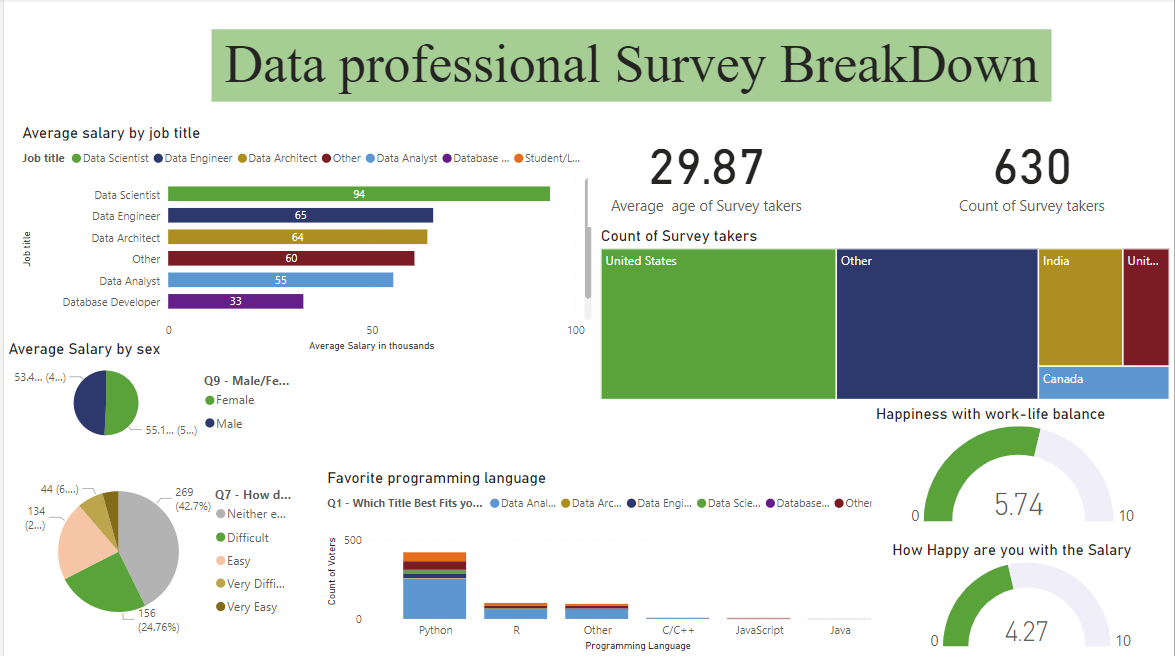

The dashboard page shown, as its layout file describes it:
{"tool":"powerbi","page":{"name":"Page 1","canvas":[1280,720],"ordinal":0},"visuals":[{"type":"card","fields":{"Values":["CountNonNull(Data Professional Survey.Unique ID)"]},"box":[990.3,136.8,269.5,104],"z":0},{"type":"barChart","title":"Average salary by job title","fields":{"Category":["Data Professional Survey.Q1 - Which Title Best Fits your Current Role?.1"],"Y":["Avg(Data Professional Survey.Average Salary.1)"],"Series":["Data Professional Survey.Q1 - Which Title Best Fits your Current Role?.1"]},"box":[15,136.8,633.3,254.4],"z":1000},{"type":"pieChart","title":"Difficulty to break into data","fields":{"Category":["Data Professional Survey.Q7 - How difficult was it for you to break into Data?"],"Y":["CountNonNull(Data Professional Survey.Q1 - Which Title Best Fits your Current Role?.1)"]},"box":[15,493.8,418.6,227.1],"z":2000},{"type":"columnChart","title":"Favorite programming language","fields":{"Category":["Data Professional Survey.Q5 - Favorite Programming Language.1"],"Y":["Count(Data Professional Survey.Unique ID)"],"Series":["Data Professional Survey.Q1 - Which Title Best Fits your Current Role?.1"]},"box":[433.6,444.5,558.1,274.9],"z":3000},{"type":"treemap","title":"Count of Survey takers","fields":{"Group":["Data Professional Survey.Q11 - Which Country do you live in?.1"],"Values":["CountNonNull(Data Professional Survey.Q11 - Which Country do you live in?.1)"]},"box":[648.3,250.3,631.9,194.2],"z":4000},{"type":"gauge","title":"Happiness with work-life balance","fields":{"Y":["Avg(Data Professional Survey.Q6 - How Happy are you in your Current Position with the following? (Work/Life Balance))"],"MinValue":["Min(Data Professional Survey.Q6 - How Happy are you in your Current Position with the following? (Work/Life Balance))"],"MaxValue":["Max(Data Professional Survey.Q6 - How Happy are you in your Current Position with the following? (Work/Life Balance))1"]},"box":[949.3,444.5,331,138.1],"z":5000},{"type":"gauge","title":" How Happy are you  with the Salary","fields":{"Y":["Avg(Data Professional Survey.Q6 - How Happy are you in your Current Position with the following? (Salary))"],"MinValue":["Min(Data Professional Survey.Q6 - How Happy are you in your Current Position with the following? (Salary))"],"MaxValue":["Max(Data Professional Survey.Q6 - How Happy are you in your Current Position with the following? (Salary))"]},"box":[967,593.6,313.2,125.8],"z":6000},{"type":"pieChart","title":"Average Salary by sex","fields":{"Category":["Data Professional Survey.Q9 - Male/Female?"],"Y":["Avg(Data Professional Survey.Average Salary.1)"]},"box":[0,391.2,365.2,102.6],"z":7000},{"type":"card","fields":{"Values":["Avg(Data Professional Survey.Q10 - Current Age)"]},"box":[638.8,125.8,259.9,124.5],"z":8000},{"type":"textbox","box":[227.1,34.2,919.2,79.3],"z":9000}]}

Visuals, with their boxes in screenshot pixels (x1, y1, x2, y2), scaled from the page's 1280x720 canvas onto the 1175x656 screenshot:
card - CountNonNull(Data Professional Survey.Unique ID): select_region(909, 125, 1156, 219)
"Average salary by job title" barChart: select_region(14, 125, 595, 356)
"Difficulty to break into data" pieChart: select_region(14, 450, 398, 655)
"Favorite programming language" columnChart: select_region(398, 405, 910, 655)
"Count of Survey takers" treemap: select_region(595, 228, 1174, 405)
"Happiness with work-life balance" gauge: select_region(871, 405, 1174, 531)
" How Happy are you  with the Salary" gauge: select_region(888, 541, 1174, 655)
"Average Salary by sex" pieChart: select_region(0, 356, 335, 450)
card - Avg(Data Professional Survey.Q10 - Current Age): select_region(586, 115, 825, 228)
textbox: select_region(208, 31, 1052, 103)
